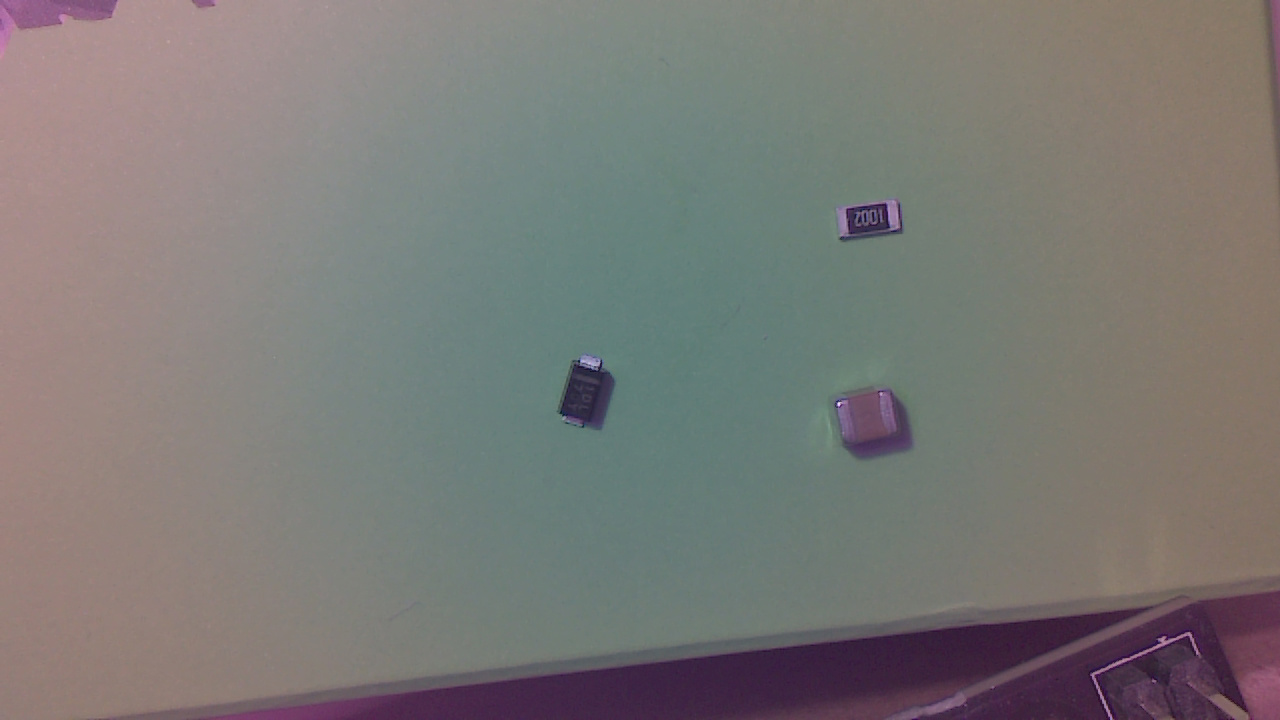Condensator: (839, 391, 906, 455)
Diode: (563, 356, 615, 433)
Resistor: (836, 200, 907, 249)
